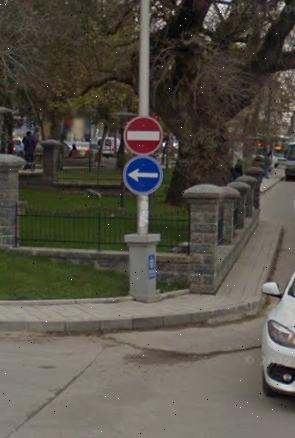turnleft: (122, 155, 161, 194)
